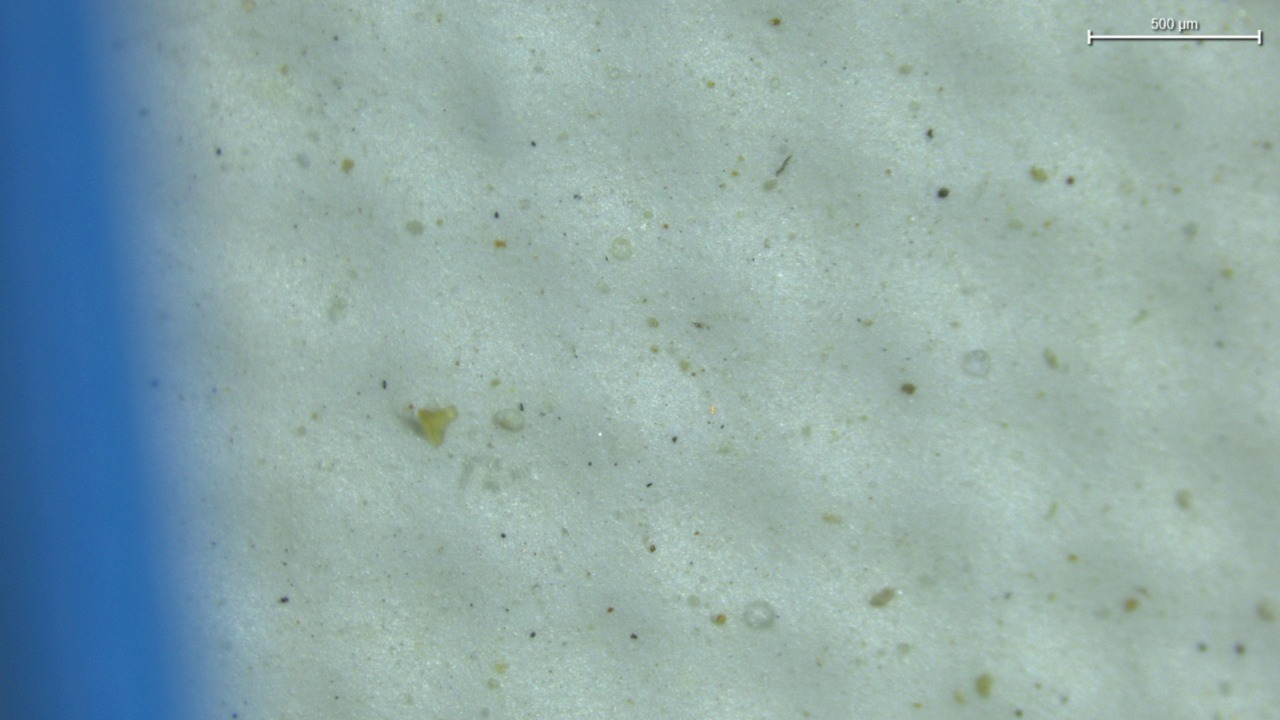microplastic_fragment: (417, 406, 457, 446)
